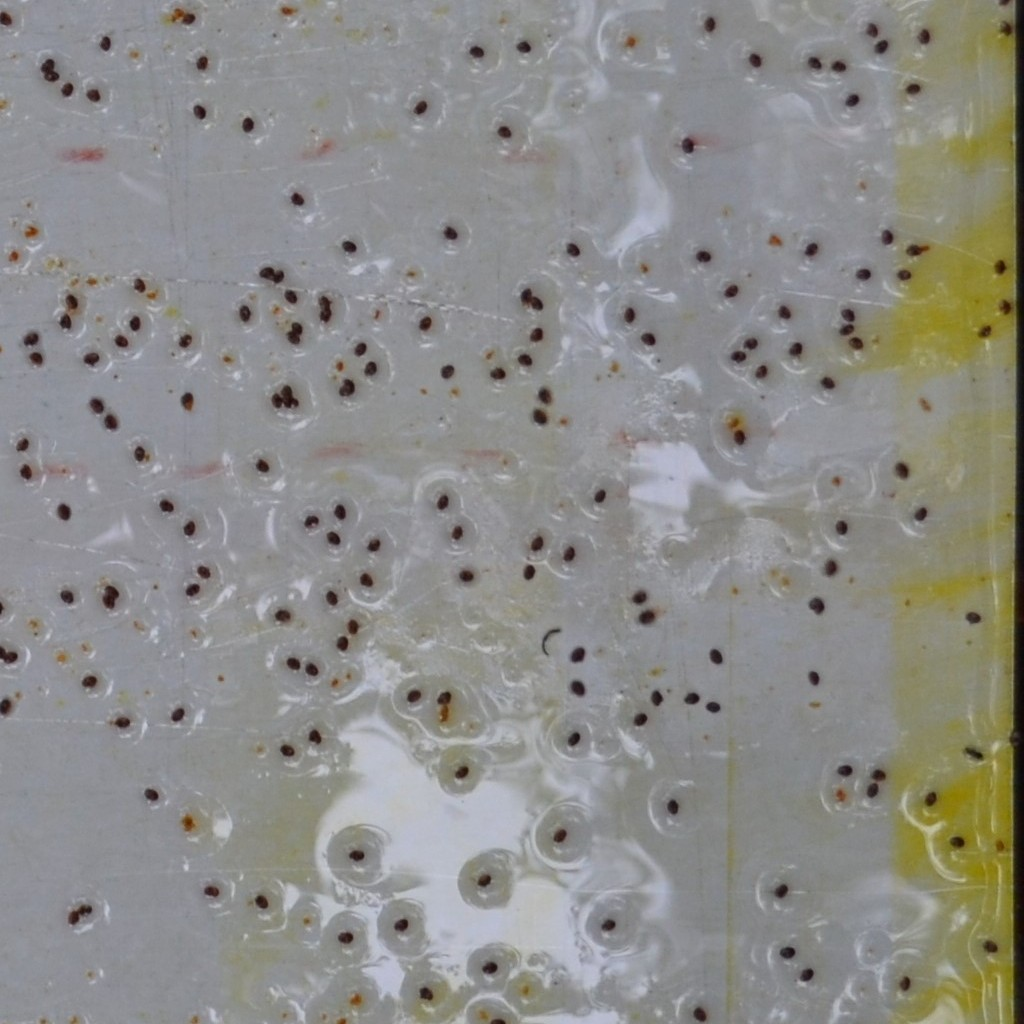varroa: (841, 89, 863, 112), (805, 594, 827, 617), (562, 237, 585, 259), (251, 890, 273, 913), (921, 785, 939, 812), (142, 786, 164, 808), (693, 246, 714, 269), (178, 387, 198, 411), (55, 500, 73, 526), (560, 543, 581, 565), (946, 829, 966, 852), (457, 565, 477, 588), (598, 912, 617, 936), (176, 328, 194, 353), (403, 686, 424, 707), (636, 608, 658, 628), (530, 405, 549, 428), (550, 824, 568, 848), (442, 221, 460, 245), (980, 935, 1000, 956), (771, 877, 791, 898), (417, 984, 437, 1005), (638, 326, 657, 348), (494, 120, 513, 142), (251, 457, 273, 476), (997, 18, 1015, 41), (480, 960, 503, 978), (365, 536, 383, 559), (878, 225, 895, 249), (831, 761, 855, 778), (806, 665, 822, 690), (621, 303, 637, 328), (527, 533, 547, 553), (434, 490, 450, 515), (801, 239, 820, 260), (818, 373, 837, 394), (628, 587, 647, 608), (487, 364, 506, 385), (183, 578, 202, 599), (805, 52, 823, 74), (677, 134, 695, 156), (821, 557, 839, 579), (63, 290, 81, 312), (745, 48, 762, 71), (962, 607, 985, 624), (708, 644, 724, 668), (838, 306, 858, 325), (846, 332, 865, 352), (869, 764, 889, 783), (730, 426, 749, 446), (476, 872, 495, 892), (339, 238, 359, 257), (178, 9, 198, 28), (37, 54, 56, 74), (357, 569, 376, 589), (797, 965, 815, 986), (689, 1005, 710, 1023), (338, 378, 356, 399), (157, 498, 175, 519), (777, 943, 799, 960), (722, 281, 739, 303), (282, 286, 299, 308), (102, 411, 119, 433), (362, 359, 378, 382), (200, 883, 223, 899), (913, 27, 932, 46), (516, 350, 535, 369), (435, 687, 454, 706), (81, 349, 100, 368), (700, 15, 718, 35), (895, 266, 913, 286), (775, 301, 793, 321), (704, 697, 722, 717), (682, 690, 702, 708), (240, 113, 258, 133), (83, 85, 103, 103), (277, 742, 297, 760), (127, 314, 145, 334), (21, 330, 41, 348), (81, 669, 101, 687), (18, 460, 33, 484), (853, 267, 874, 284), (569, 645, 586, 666), (452, 763, 469, 784), (237, 305, 254, 326), (834, 516, 850, 538), (570, 677, 586, 699), (194, 51, 210, 73), (334, 634, 350, 656), (324, 587, 340, 609), (335, 929, 357, 945), (112, 714, 134, 730), (333, 501, 347, 526), (873, 39, 891, 58), (466, 42, 485, 60), (521, 561, 539, 580), (633, 709, 650, 729), (528, 325, 545, 345), (393, 915, 410, 935), (325, 530, 342, 550), (307, 727, 324, 747), (829, 57, 850, 73), (897, 972, 913, 993), (743, 334, 759, 355), (537, 384, 553, 405), (290, 187, 306, 208), (182, 518, 198, 539), (666, 797, 681, 819), (413, 99, 428, 121), (592, 487, 610, 505), (565, 730, 583, 748), (439, 362, 457, 380), (283, 328, 301, 346), (28, 349, 46, 367), (194, 562, 212, 580), (13, 435, 31, 453), (42, 68, 61, 85), (169, 705, 186, 724), (992, 257, 1008, 277), (837, 319, 857, 335), (864, 780, 880, 800), (753, 361, 769, 381), (529, 294, 545, 314), (418, 313, 434, 333), (191, 102, 207, 122), (302, 661, 322, 677), (111, 334, 131, 350), (57, 588, 77, 604), (903, 81, 921, 98), (729, 347, 747, 364), (514, 38, 532, 55), (977, 322, 993, 341), (787, 338, 803, 357), (913, 504, 929, 523), (650, 687, 666, 706), (285, 656, 301, 675), (346, 847, 365, 863), (57, 313, 73, 332), (3, 650, 22, 666), (272, 608, 292, 623), (353, 338, 367, 359), (894, 461, 910, 479), (303, 513, 319, 531), (131, 276, 147, 294), (101, 595, 117, 613), (518, 286, 533, 305), (450, 523, 465, 542), (89, 395, 103, 415), (905, 242, 922, 258), (130, 445, 146, 462), (59, 80, 74, 98), (269, 391, 283, 410), (258, 266, 274, 282), (103, 582, 119, 598), (864, 20, 878, 38), (99, 33, 113, 51), (77, 902, 95, 916), (67, 909, 81, 927), (279, 383, 294, 399), (347, 616, 360, 634), (318, 290, 331, 308), (0, 698, 13, 716), (318, 307, 332, 322), (272, 268, 285, 284), (0, 11, 12, 28), (290, 321, 304, 334), (487, 1015, 508, 1023)
